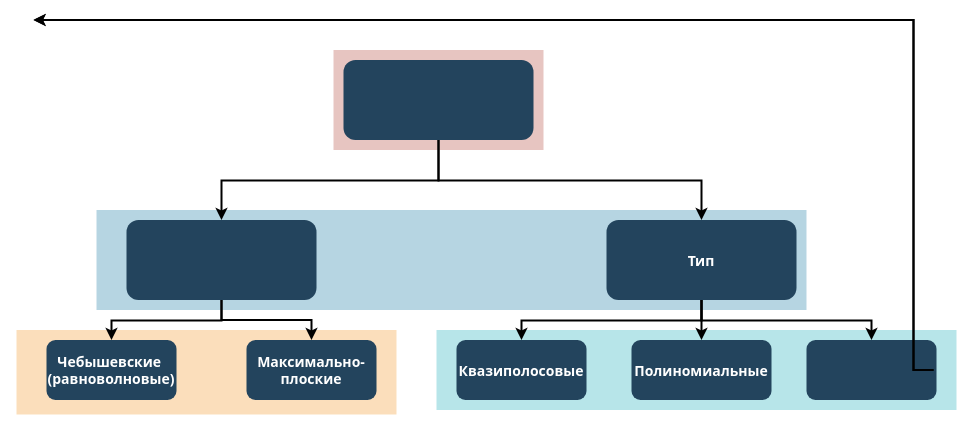
Image size: 973x431. Some labels were removed from this diagram. The shapes that lost their labels are listed below. From the top down, each one's centre as x and y in pixels, then its label:
the point at 438,100: СЦ
the point at 221,260: Аппроксимация функции рабочего затухания
the point at 871,370: Оптимальные
